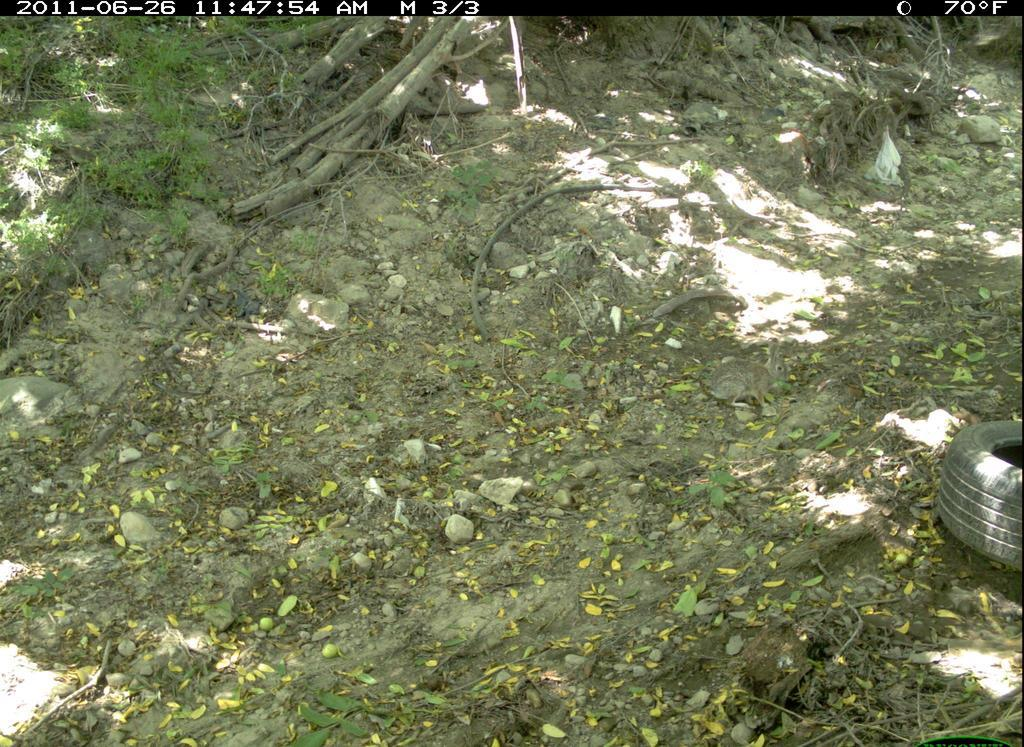rabbit: (698, 325, 799, 419)
